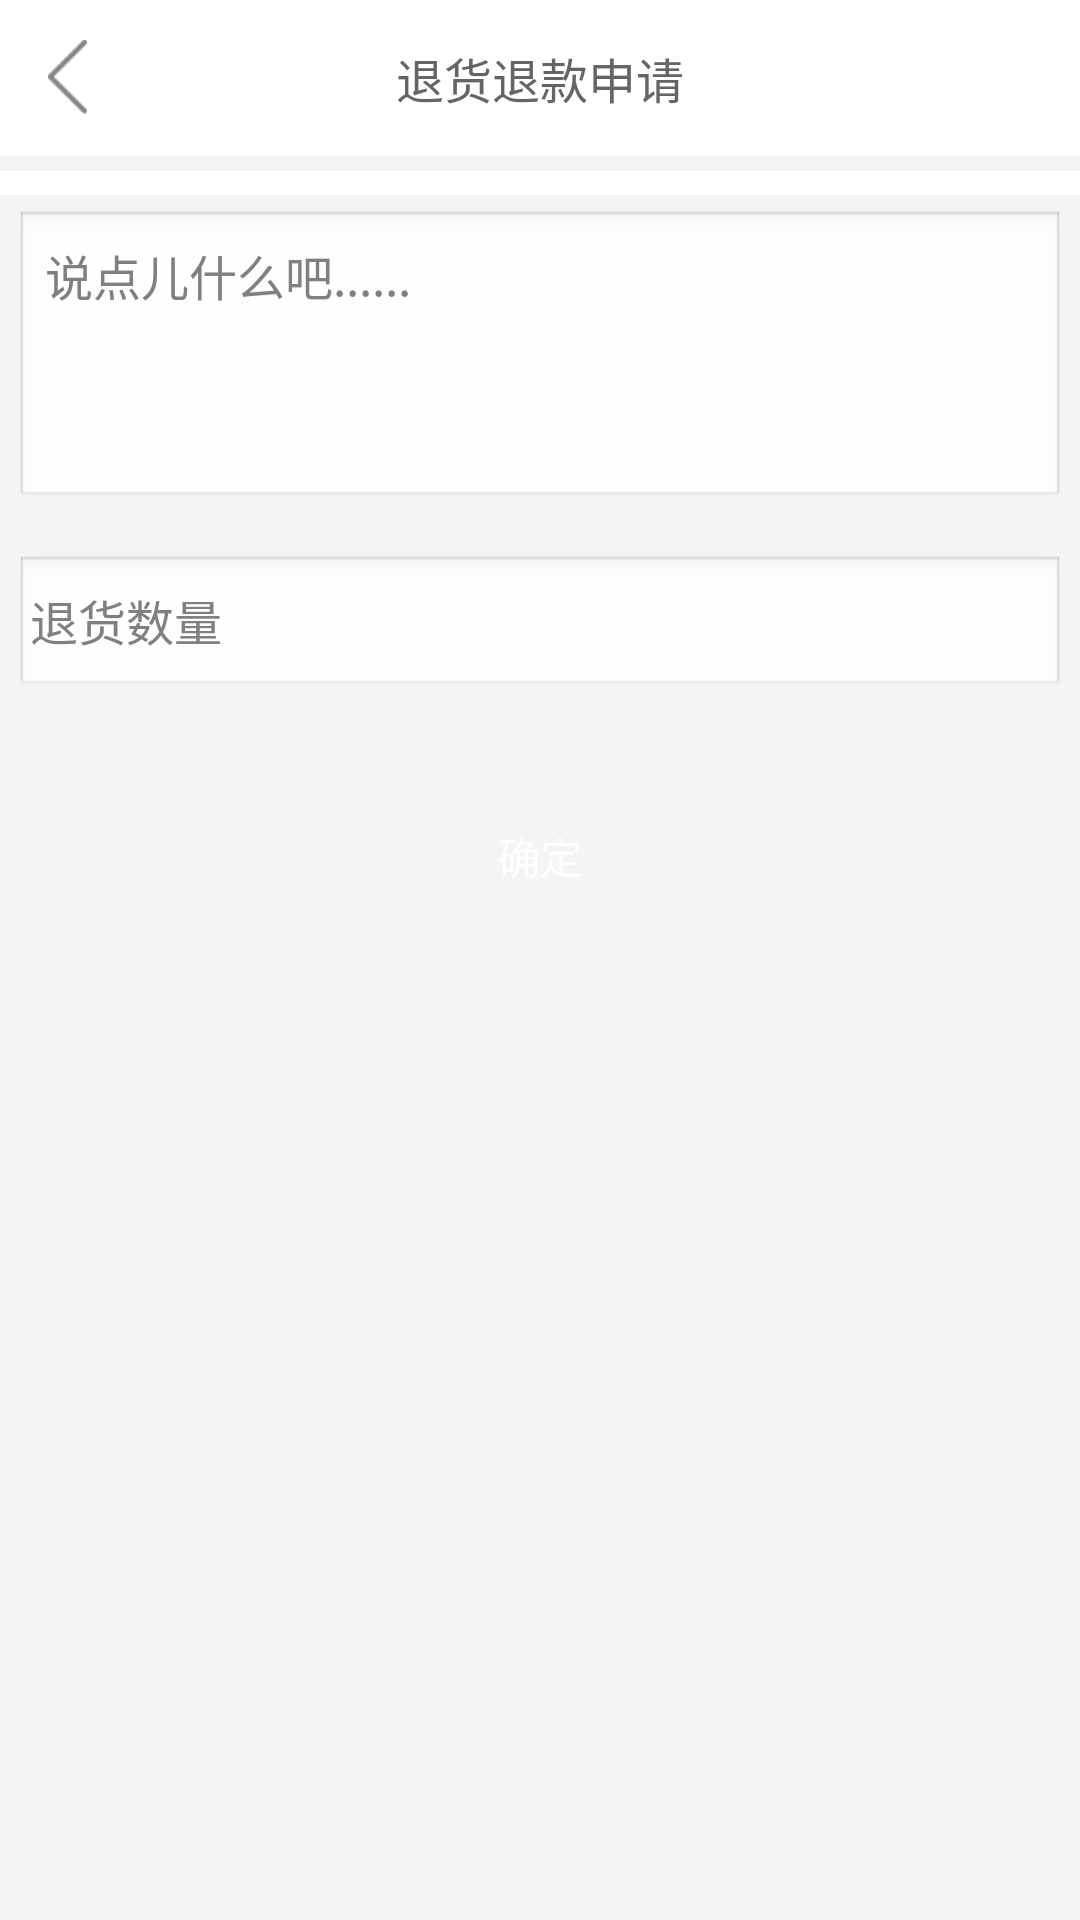

Screen size 1080×1920. Icon name, then its center in pixels as point (x, y):
back: point (67, 77)
